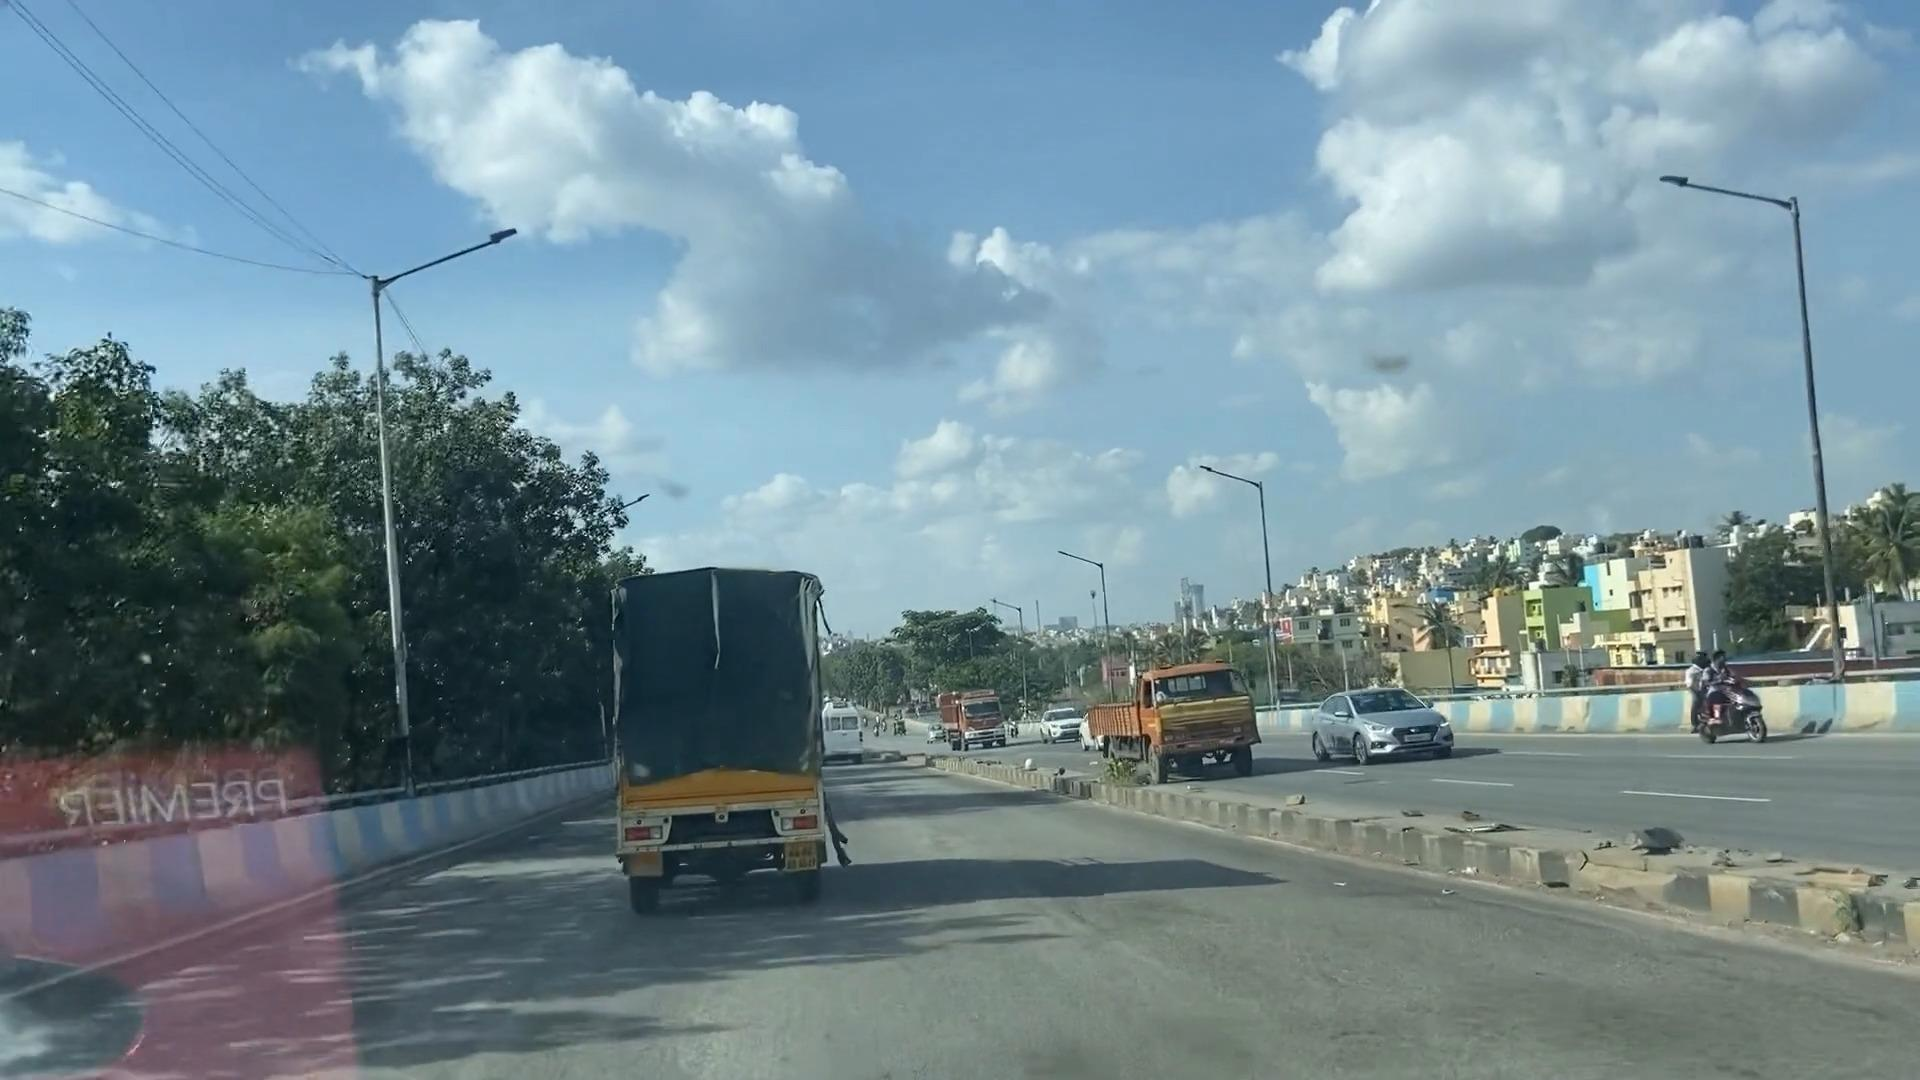HMV: (596, 558, 870, 920)
